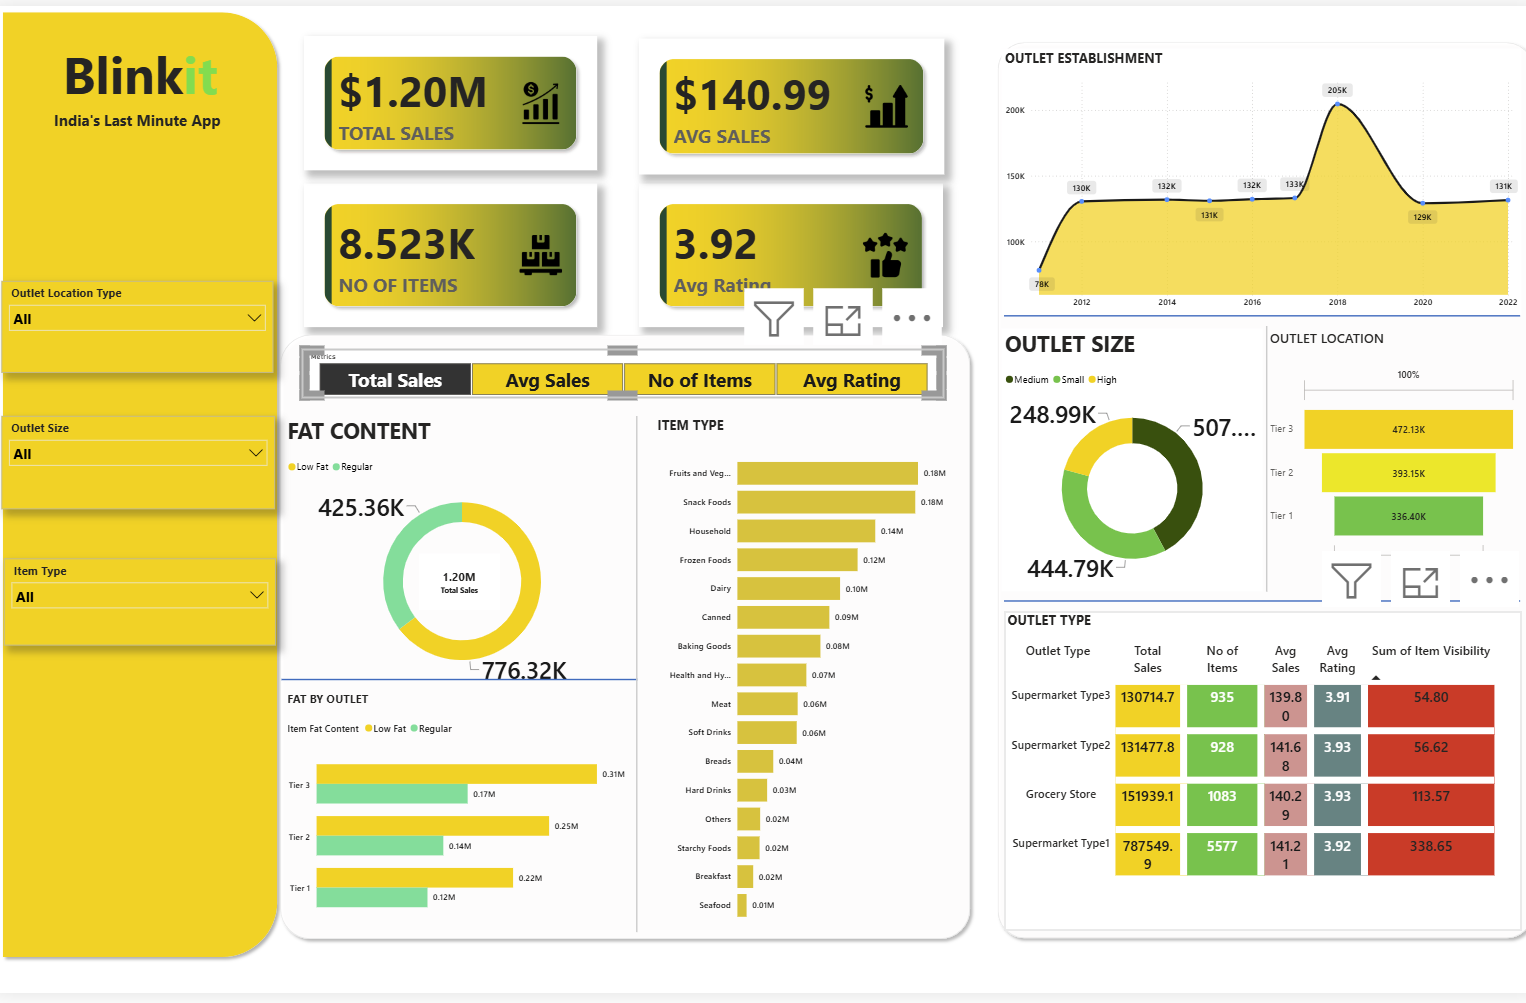

Layout of this report page (visuals, bound fields, positions):
{"tool":"powerbi","page":{"name":"Page 1","canvas":[2200,1400],"ordinal":0},"visuals":[{"type":"shape","box":[10.8,0,406.9,1357.1],"z":0},{"type":"textbox","box":[10.8,43.3,406.9,142.9],"z":1000},{"type":"textbox","box":[2.2,140.7,413.4,71.4],"z":2000},{"type":"cardVisual","fields":{"Data":["BlinkIT Grocery Data.No of Items"]},"box":[445.9,253.2,415.6,203.5],"z":3000},{"type":"cardVisual","fields":{"Data":["BlinkIT Grocery Data.Total Sales"]},"box":[445.9,43.3,415.6,190.5],"z":4000},{"type":"cardVisual","fields":{"Data":["BlinkIT Grocery Data.Avg Rating"]},"box":[922.1,253.2,430.7,203.5],"z":5000},{"type":"cardVisual","fields":{"Data":["BlinkIT Grocery Data.Avg Sales"]},"box":[919.9,45.5,432.9,192.6],"z":6000},{"type":"shape","box":[404.8,456.7,995.7,874.5],"z":7000},{"type":"donutChart","title":"FAT CONTENT","fields":{"Y":["BlinkIT Grocery Data.Avg Sales"],"Category":["BlinkIT Grocery Data.Item Fat Content"]},"box":[419.9,582.3,504.3,387.4],"z":8000},{"type":"slicer","fields":{"Values":["Metrics 2.Metrics"]},"box":[441.6,484.9,911.3,71.4],"z":9000},{"type":"cardVisual","fields":{"Data":["BlinkIT Grocery Data.Avg Sales"]},"box":[610.4,777.1,114.7,80.1],"z":10000},{"type":"clusteredBarChart","title":"FAT BY OUTLET","fields":{"Y":["BlinkIT Grocery Data.Avg Sales"],"Category":["BlinkIT Grocery Data.Outlet Location Type"],"Series":["BlinkIT Grocery Data.Item Fat Content"]},"box":[417.8,969.7,504.3,344.2],"z":11000},{"type":"shape","box":[415.6,893.9,504.3,123.4],"z":12000},{"type":"shape","box":[898.3,582.3,43.3,731.6],"z":13000},{"type":"barChart","title":"ITEM TYPE","fields":{"Y":["BlinkIT Grocery Data.Avg Sales"],"Category":["BlinkIT Grocery Data.Item Type"]},"box":[941.6,582.3,419.9,731.6],"z":14000},{"type":"shape","box":[1422.1,43.3,777.1,1287.9],"z":15000},{"type":"lineChart","title":"OUTLET ESTABLISHMENT","fields":{"Y":["BlinkIT Grocery Data.Total Sales"],"Category":["BlinkIT Grocery Data.Outlet Establishment Year"]},"box":[1434.5,61.9,736.8,378.2],"z":16000},{"type":"shape","box":[1439.4,333.3,731.6,212.1],"z":17000},{"type":"donutChart","title":"OUTLET SIZE","fields":{"Category":["BlinkIT Grocery Data.Outlet Size"],"Y":["BlinkIT Grocery Data.Total Sales"]},"box":[1435.1,456.7,370.1,372.3],"z":18000},{"type":"shape","box":[1774.9,452.4,71.4,376.6],"z":19000},{"type":"funnel","title":"OUTLET LOCATION","fields":{"Y":["Sum(BlinkIT Grocery Data.Sales)"],"Category":["BlinkIT Grocery Data.Outlet Location Type"]},"box":[1811.7,456.7,359.3,372.3],"z":20000},{"type":"shape","box":[1439.4,803,731.6,77.9],"z":21000},{"type":"pivotTable","title":"OUTLET TYPE","fields":{"Rows":["BlinkIT Grocery Data.Outlet Type"],"Values":["BlinkIT Grocery Data.Total Sales","BlinkIT Grocery Data.No of Items","BlinkIT Grocery Data.Avg Sales","BlinkIT Grocery Data.Avg Rating","Sum(BlinkIT Grocery Data.Item Visibility)"]},"box":[1439.4,859.3,731.6,452.4],"z":22000},{"type":"slicer","fields":{"Values":["BlinkIT Grocery Data.Outlet Location Type"]},"box":[19.5,389.6,385.3,129.9],"z":23000},{"type":"slicer","fields":{"Values":["BlinkIT Grocery Data.Outlet Size"]},"box":[19.5,582.3,387.4,132],"z":24000},{"type":"slicer","fields":{"Values":["BlinkIT Grocery Data.Item Type"]},"box":[21.6,783.6,385.3,123.4],"z":25000}]}

Visuals, with their boxes on the page's 2200x1400 design canvas (x1, y1, x2, y2). These are canvas units, not pixel positions in the 1526x1003 screenshot, which may show the page scaled, cropped or inside an application window:
shape: {"left": 11, "top": 0, "right": 418, "bottom": 1357}
textbox: {"left": 11, "top": 43, "right": 418, "bottom": 186}
textbox: {"left": 2, "top": 141, "right": 416, "bottom": 212}
cardVisual - BlinkIT Grocery Data.No of Items: {"left": 446, "top": 253, "right": 862, "bottom": 457}
cardVisual - BlinkIT Grocery Data.Total Sales: {"left": 446, "top": 43, "right": 862, "bottom": 234}
cardVisual - BlinkIT Grocery Data.Avg Rating: {"left": 922, "top": 253, "right": 1353, "bottom": 457}
cardVisual - BlinkIT Grocery Data.Avg Sales: {"left": 920, "top": 46, "right": 1353, "bottom": 238}
shape: {"left": 405, "top": 457, "right": 1400, "bottom": 1331}
"FAT CONTENT" donutChart: {"left": 420, "top": 582, "right": 924, "bottom": 970}
slicer - Metrics 2.Metrics: {"left": 442, "top": 485, "right": 1353, "bottom": 556}
cardVisual - BlinkIT Grocery Data.Avg Sales: {"left": 610, "top": 777, "right": 725, "bottom": 857}
"FAT BY OUTLET" clusteredBarChart: {"left": 418, "top": 970, "right": 922, "bottom": 1314}
shape: {"left": 416, "top": 894, "right": 920, "bottom": 1017}
shape: {"left": 898, "top": 582, "right": 942, "bottom": 1314}
"ITEM TYPE" barChart: {"left": 942, "top": 582, "right": 1362, "bottom": 1314}
shape: {"left": 1422, "top": 43, "right": 2199, "bottom": 1331}
"OUTLET ESTABLISHMENT" lineChart: {"left": 1434, "top": 62, "right": 2171, "bottom": 440}
shape: {"left": 1439, "top": 333, "right": 2171, "bottom": 545}
"OUTLET SIZE" donutChart: {"left": 1435, "top": 457, "right": 1805, "bottom": 829}
shape: {"left": 1775, "top": 452, "right": 1846, "bottom": 829}
"OUTLET LOCATION" funnel: {"left": 1812, "top": 457, "right": 2171, "bottom": 829}
shape: {"left": 1439, "top": 803, "right": 2171, "bottom": 881}
"OUTLET TYPE" pivotTable: {"left": 1439, "top": 859, "right": 2171, "bottom": 1312}
slicer - BlinkIT Grocery Data.Outlet Location Type: {"left": 20, "top": 390, "right": 405, "bottom": 520}
slicer - BlinkIT Grocery Data.Outlet Size: {"left": 20, "top": 582, "right": 407, "bottom": 714}
slicer - BlinkIT Grocery Data.Item Type: {"left": 22, "top": 784, "right": 407, "bottom": 907}
